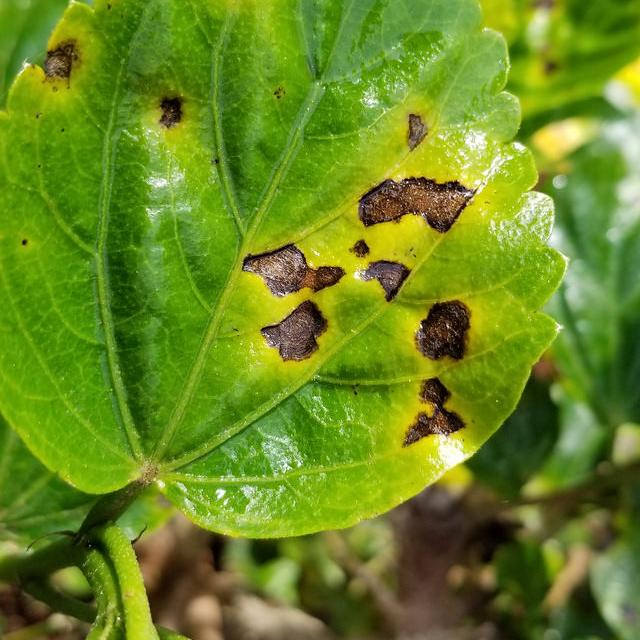Tomato leaf bacterial spot: (0, 0, 585, 540)
